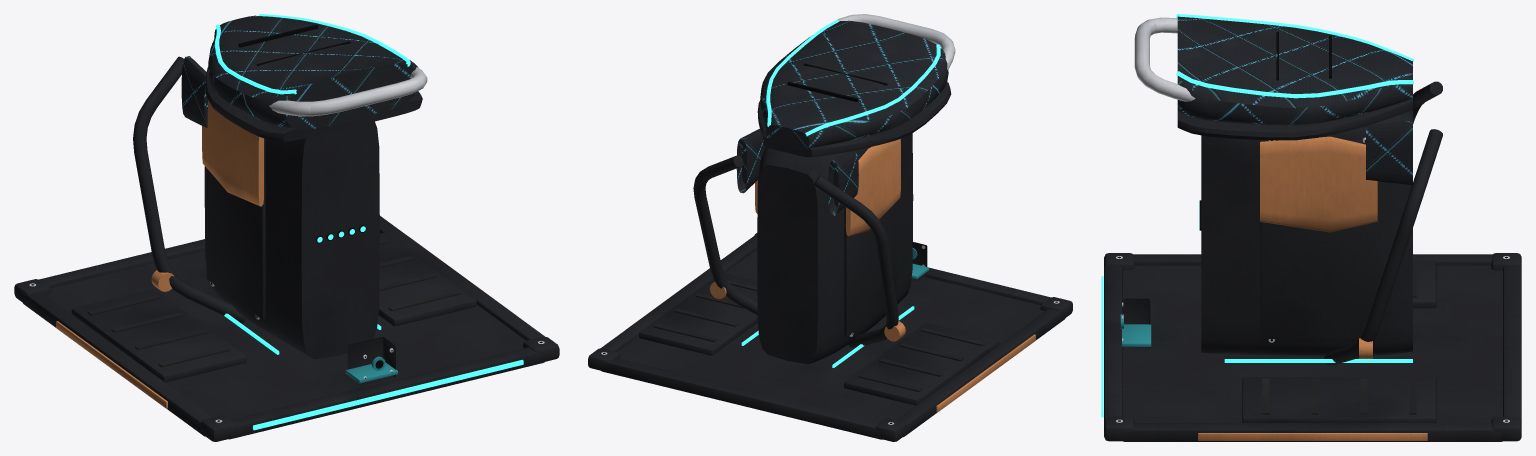
The model's file is saddle_5.glb.
The picture shows the model from 3 angles, left to right: view 1: azimuth 30°, elevation 25°; view 2: azimuth 150°, elevation 25°; view 3: azimuth 270°, elevation 25°; orthographic projection. The views are drawn at different scales.
Parts seen in each view (by area): view 1: Base, Cushion, SaddlePan, RunningLight; view 2: Base, Cushion, SaddlePan; view 3: Base, Cushion, SaddlePan, UnderGlowR, RunningLight.
Part boxes in pixels (x1,y1,x2,y2): Base: (14,56,559,441); Cushion: (208,14,418,129); SaddlePan: (205,43,422,141); RunningLight: (253,359,523,430); Base: (588,14,1072,441); Cushion: (760,19,948,149); SaddlePan: (757,82,951,157); Base: (1104,17,1521,441); Cushion: (1176,14,1413,125); SaddlePan: (1177,98,1412,140); UnderGlowR: (1224,359,1412,362); RunningLight: (1101,276,1103,417).
Size of the model in its own units: 0.718 by 0.593 by 0.715.
Materials: 8 (5 with a texture image).
